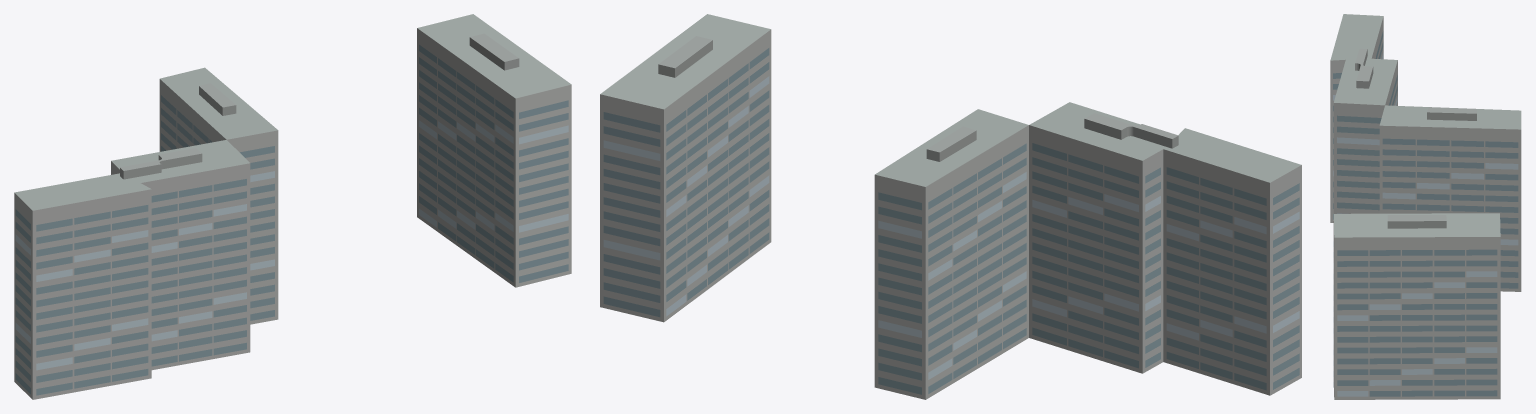
Rendered from apt-a13407201.glb.
3 renders of one model, left to right at view 1: azimuth 30°, elevation 25°; view 2: azimuth 150°, elevation 25°; view 3: azimuth 270°, elevation 25°, orthographic. The views are drawn at different scales.
Visible parts, largest first — view 1: apt-a13407201; view 2: apt-a13407201; view 3: apt-a13407201.
Part boxes in pixels (box(x1,y1,x2,y2)): apt-a13407201: box(14, 14, 571, 399); apt-a13407201: box(600, 14, 1301, 399); apt-a13407201: box(1330, 14, 1521, 399).
Size of the model in its own units: 135 by 47.81 by 48.84.
